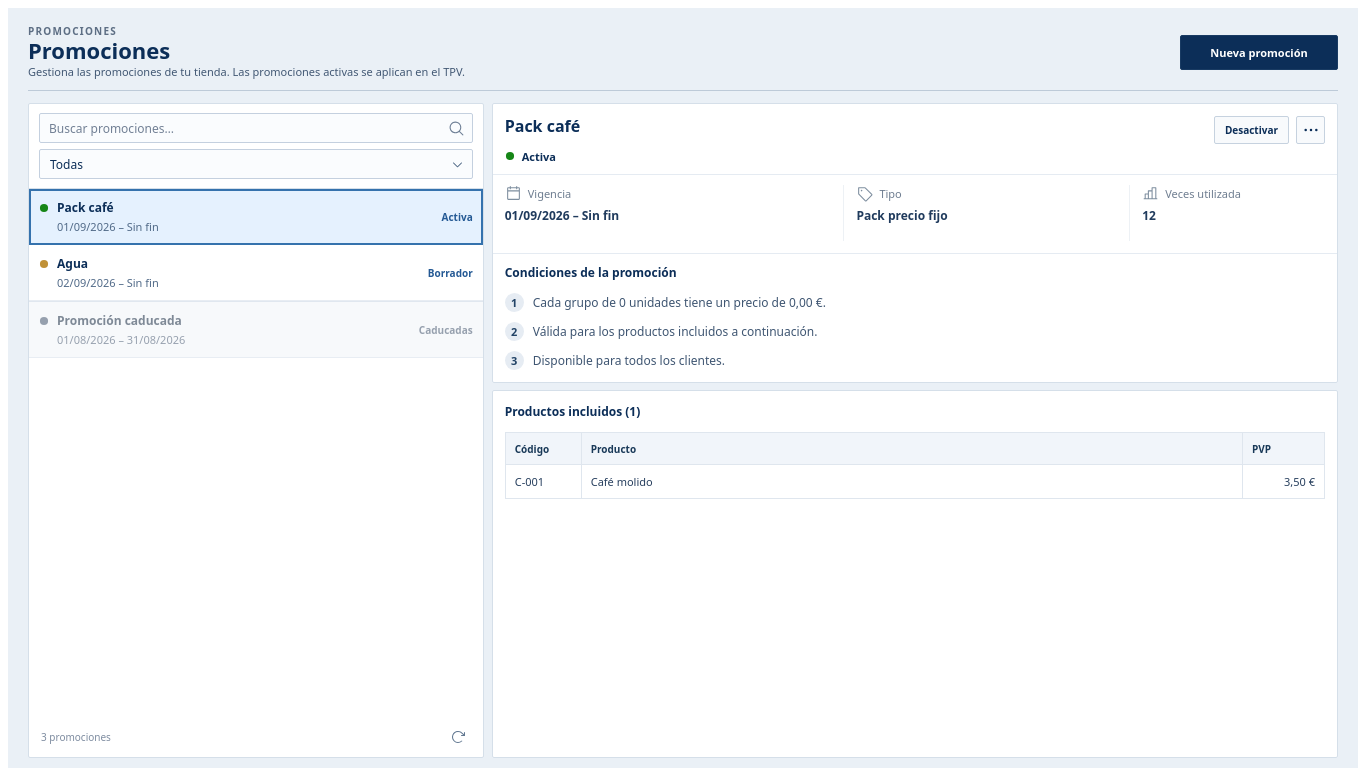
Scenario: Promotion list filters and detail › searches by the localized status in es
The image size is (1366, 768).
Check: the button "Agua 02/09/2026 – Sin fin Borrador" is shown, box [29, 245, 483, 301]
Type "Borrador" into the search field labelled "Buscar". click: (256, 128)
box: [39, 113, 473, 143]
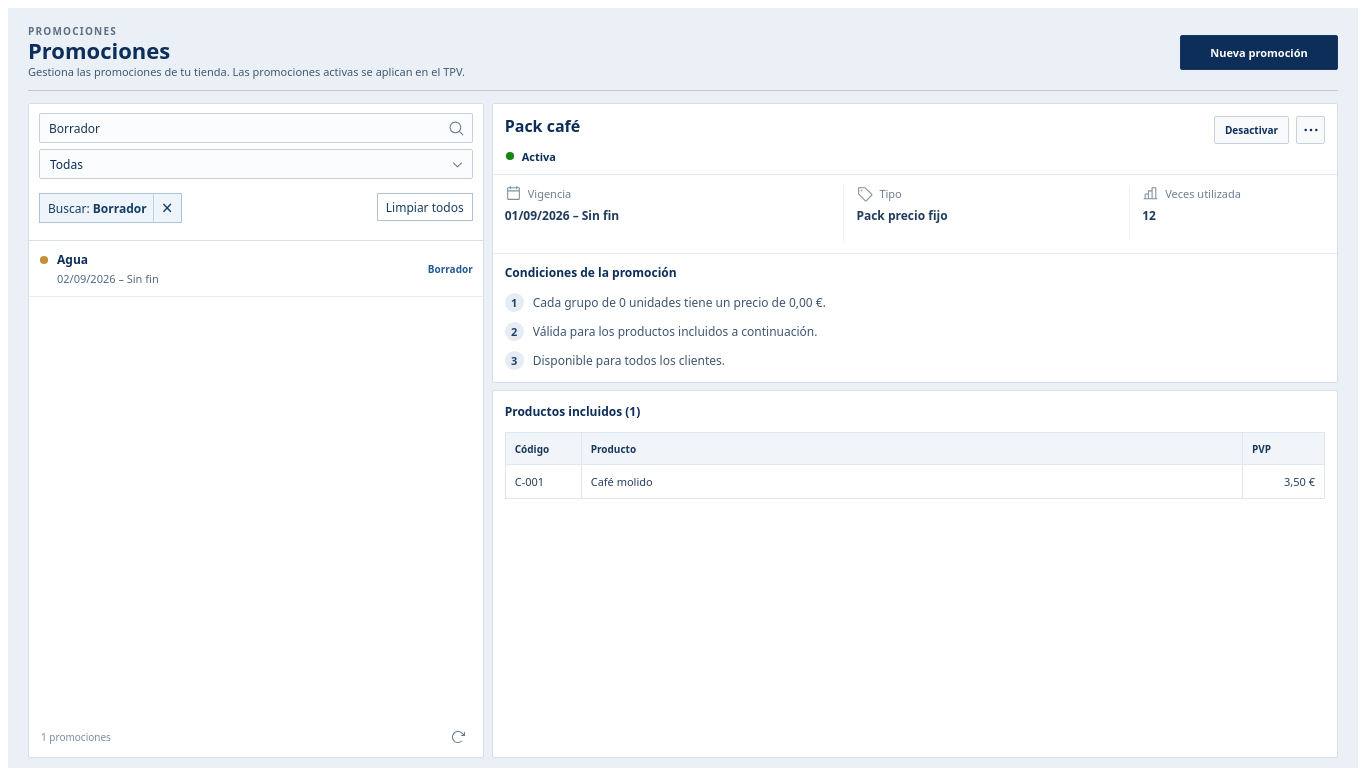
Check: the button "Agua 02/09/2026 – Sin fin Borrador" is shown, box [29, 241, 483, 297]
Click the button "Limpiar todos". click: (425, 207)
box: [377, 193, 473, 221]
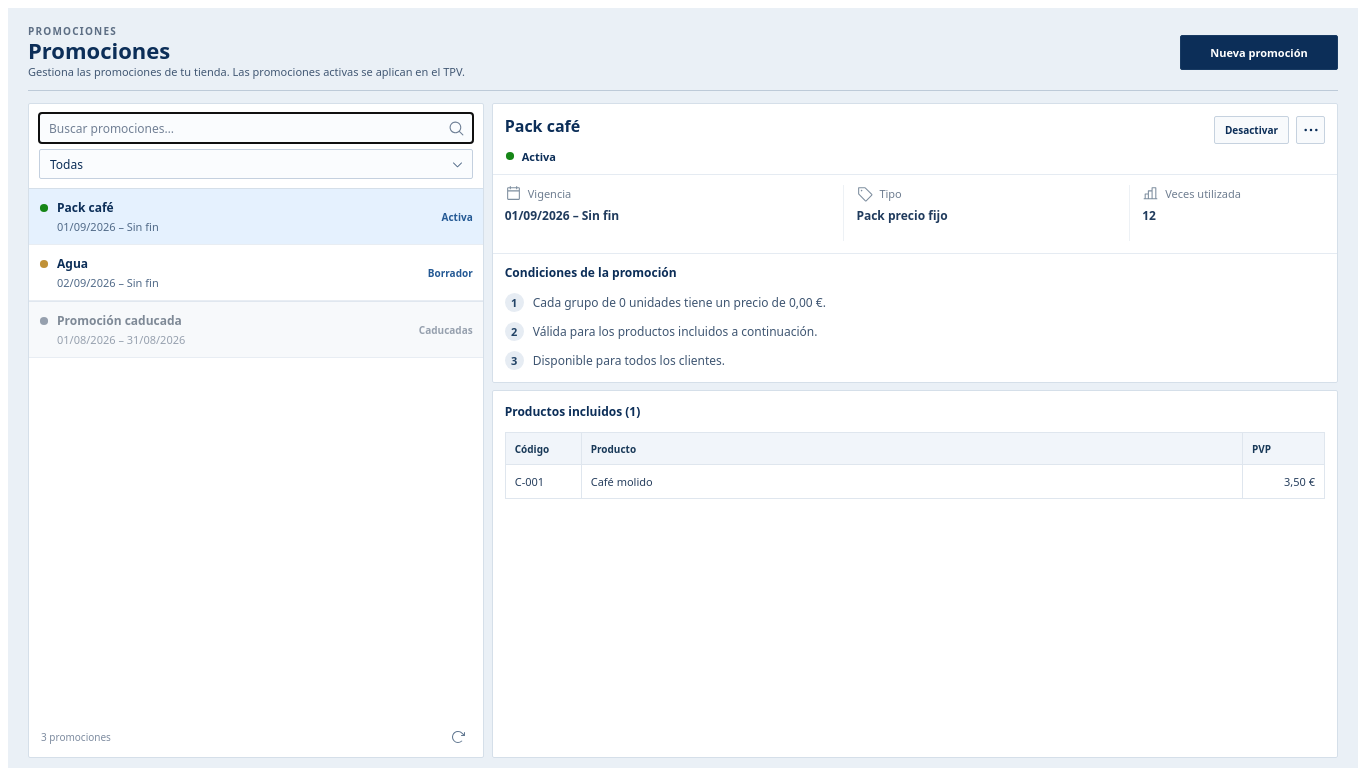
Check: the button "Pack café 01/09/2026 – Sin fin Activa" is shown, box [29, 189, 483, 245]
Check: the search field labelled "Buscar" is empty, box [39, 113, 473, 143]
